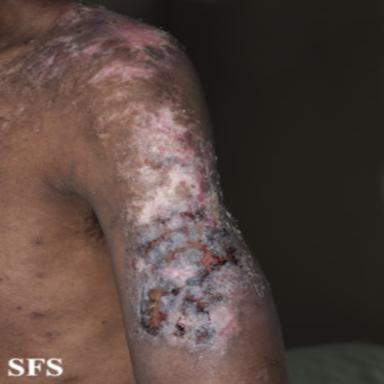Lupus-Erythematosus-Chronicus-Discoides: (0, 1, 267, 354)
